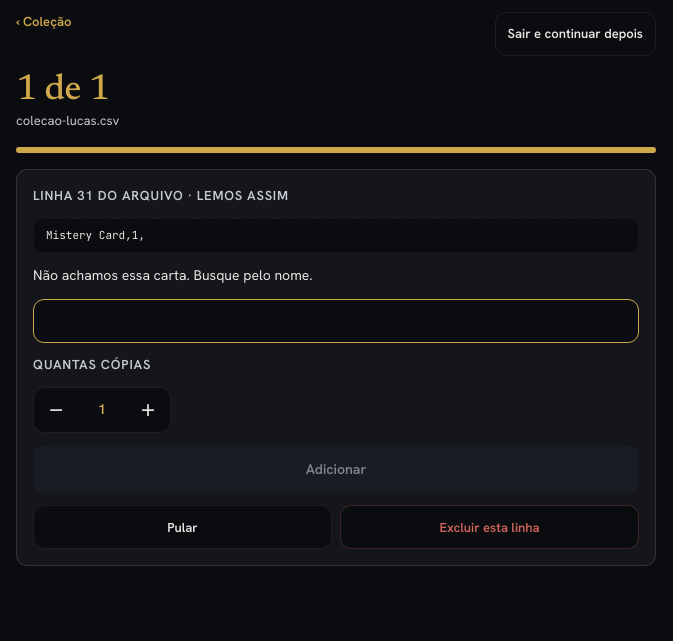
Test: PendingResolver › a search with no card says so and adds nothing
This screenshot has width=673, height=641.
Type "Mistery" into the search field at (336,321), box [33,299,639,343]
Wait 400 ms
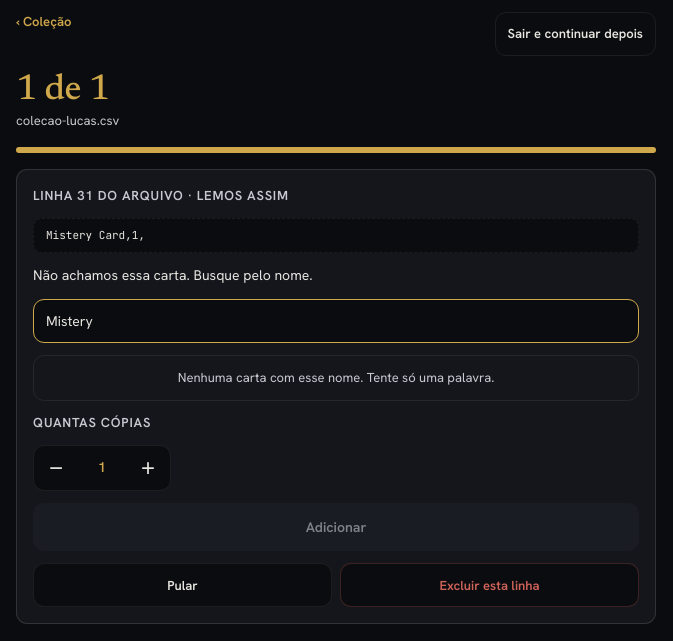
Expected: the button "Adicionar" is disabled, [33,503,639,551]
Now the text "Nenhuma carta com esse nome. Tente só uma palavra." is shown, box [33,355,639,401]
